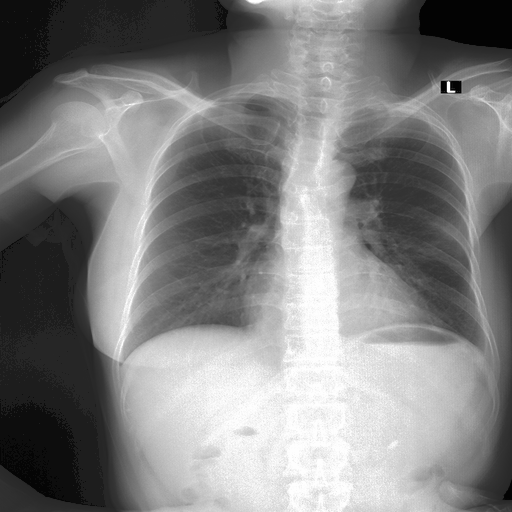Consolidation: (317, 159, 356, 193)
Nodule/Mass: (239, 289, 433, 330)
Pleural thickening: (412, 208, 470, 261)
